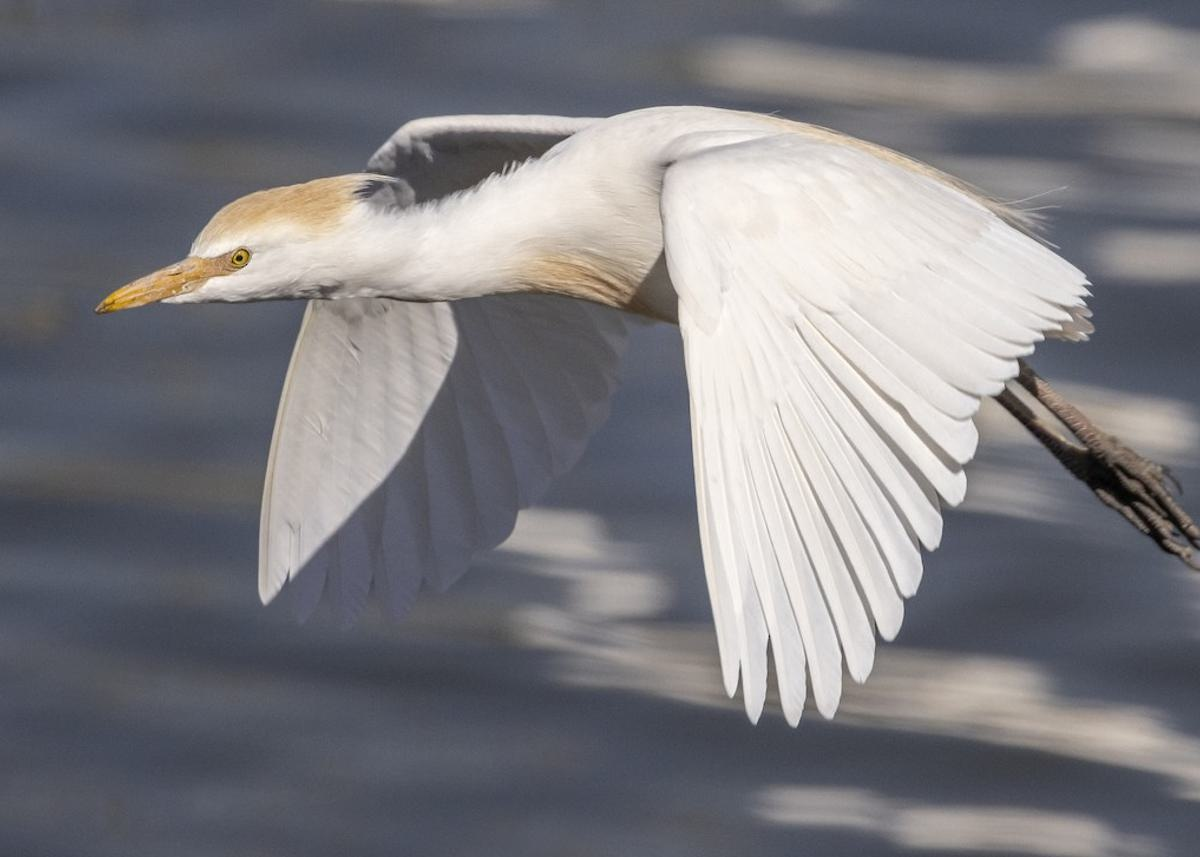egret: (95, 106, 1200, 772)
